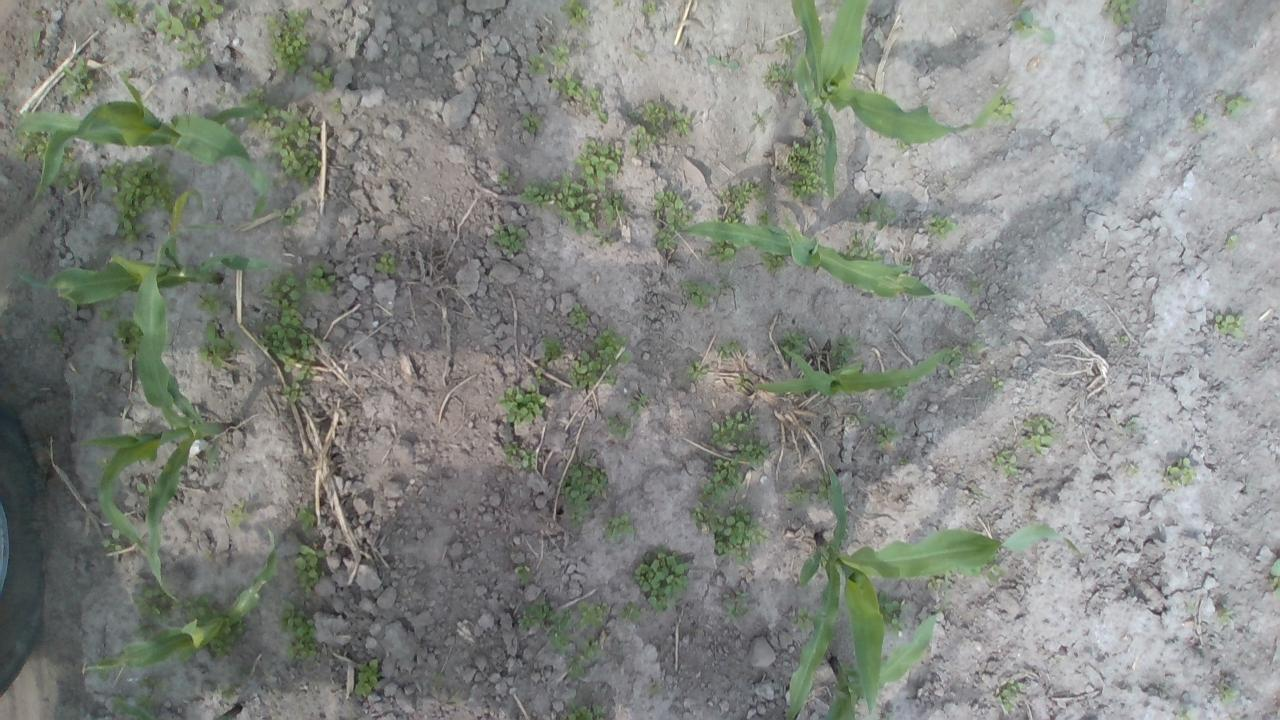Maize: (785, 466, 1085, 720), (77, 232, 236, 608), (786, 0, 1008, 199), (15, 68, 271, 216), (678, 217, 986, 323), (16, 192, 268, 305), (80, 530, 280, 670), (744, 342, 960, 399), (827, 612, 937, 720), (130, 701, 240, 720)
Weeds: (520, 174, 612, 248), (266, 104, 324, 187), (100, 154, 177, 216), (258, 308, 320, 373), (152, 2, 208, 72), (632, 548, 689, 612), (558, 458, 608, 528), (712, 503, 769, 564), (782, 133, 828, 202), (265, 7, 312, 74), (276, 596, 320, 664), (520, 601, 572, 656), (130, 582, 175, 642), (574, 137, 622, 185), (198, 324, 242, 372), (568, 350, 616, 391), (709, 410, 758, 450), (498, 384, 547, 424), (701, 458, 744, 503), (654, 190, 696, 233), (292, 541, 326, 594), (60, 55, 96, 105), (262, 270, 306, 310), (1014, 10, 1058, 49), (171, 0, 225, 31), (240, 84, 278, 128), (1020, 416, 1060, 457), (592, 326, 633, 365), (206, 620, 248, 658), (174, 591, 223, 623), (11, 127, 50, 164), (50, 142, 82, 187), (876, 587, 906, 634), (681, 280, 725, 312), (854, 198, 896, 231), (113, 318, 145, 360), (492, 222, 531, 254), (502, 439, 537, 472), (846, 231, 881, 264), (761, 62, 796, 95), (778, 329, 812, 362), (719, 180, 756, 210), (1210, 312, 1248, 341), (994, 678, 1024, 714), (306, 262, 338, 295), (114, 214, 148, 245), (832, 333, 861, 368), (734, 438, 770, 466), (1214, 94, 1256, 118), (721, 590, 750, 624), (105, 0, 144, 25), (576, 598, 606, 630), (628, 122, 658, 154), (354, 660, 379, 698), (1166, 457, 1196, 488), (564, 699, 608, 720), (1104, 0, 1138, 27), (550, 70, 584, 97), (125, 691, 156, 720), (989, 93, 1016, 126), (926, 214, 960, 240), (603, 189, 628, 224), (992, 450, 1022, 479), (560, 0, 590, 29), (642, 100, 670, 131), (691, 499, 718, 530), (586, 86, 608, 124), (606, 511, 634, 540), (308, 64, 336, 93), (784, 478, 810, 509), (706, 238, 736, 264), (226, 498, 252, 528), (100, 525, 124, 557), (792, 606, 820, 632), (874, 422, 900, 450), (606, 413, 631, 441), (937, 346, 965, 371), (984, 561, 1010, 586), (814, 469, 832, 505), (198, 292, 225, 316), (542, 335, 564, 363), (580, 636, 604, 661), (761, 250, 786, 274), (654, 226, 678, 251), (296, 503, 314, 536), (568, 302, 589, 330), (706, 54, 740, 71), (1216, 680, 1240, 704), (669, 110, 691, 136), (885, 382, 913, 402), (687, 359, 711, 382), (713, 207, 745, 224), (629, 390, 648, 418), (94, 657, 115, 682), (278, 204, 304, 224), (926, 570, 952, 590), (568, 654, 586, 682), (374, 252, 396, 274), (526, 52, 546, 76), (135, 674, 164, 690), (550, 42, 570, 65), (513, 562, 532, 585), (1270, 558, 1280, 601), (97, 304, 120, 322), (717, 338, 737, 358), (622, 602, 642, 622), (46, 325, 66, 345), (779, 35, 798, 56), (522, 111, 538, 135), (1214, 604, 1232, 625), (110, 694, 128, 714), (284, 381, 302, 400), (1192, 110, 1207, 132), (1224, 232, 1239, 254), (966, 339, 986, 355), (638, 0, 658, 16), (894, 136, 910, 154), (496, 167, 512, 185), (850, 412, 872, 425), (531, 366, 545, 386), (136, 481, 153, 497), (990, 375, 1004, 394), (758, 209, 772, 228), (752, 185, 768, 200), (968, 280, 983, 295), (1124, 462, 1138, 478), (222, 686, 234, 704), (330, 97, 343, 113), (32, 31, 44, 48), (296, 369, 310, 382), (1178, 709, 1192, 720), (1120, 334, 1130, 346), (903, 259, 914, 269), (0, 76, 9, 88), (612, 0, 622, 9)
